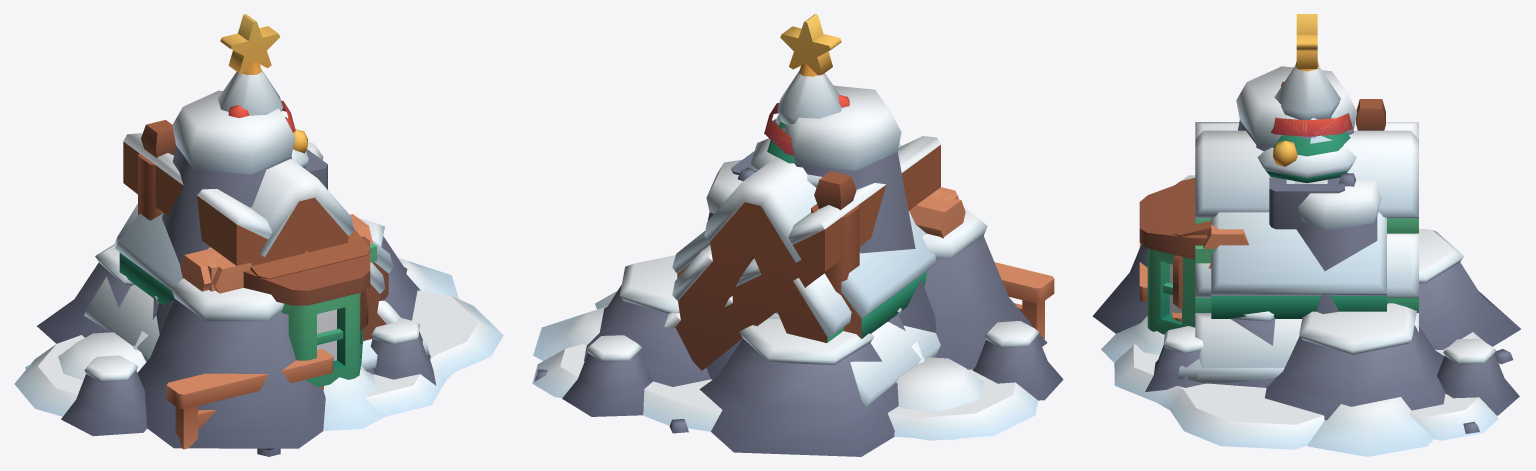
File: winter.glb
3 renders of one model, left to right at view 1: azimuth 30°, elevation 25°; view 2: azimuth 150°, elevation 25°; view 3: azimuth 270°, elevation 25°, orthographic. The views are drawn at different scales.
Parts seen in each view (by area): view 1: rocks-large, snow-flat-large, cabin-window-large, cabin-roof-snow-point, cabin-fence, cabin-roof-chimney, cabin-roof-point, cabin-roof-snow-chimney, cabin-roof-snow-dormer, tree-decorated-snow, cabin-overhang-doorway, cabin-corner-logs (+4 smaller); view 2: rocks-large, cabin-roof-snow-point, snow-flat-large, cabin-roof-point, cabin-roof-snow-chimney, cabin-roof-snow-dormer, tree-decorated-snow, cabin-roof-chimney, cabin-roof-snow-corner, tree-snow-b, cabin-fence, cabin-corner-logs (+1 smaller); view 3: rocks-large, cabin-roof-snow-point, snow-flat-large, cabin-roof-snow-dormer, tree-decorated-snow, cabin-window-large, cabin-roof-dormer, cabin-roof-snow-chimney, tree-snow-b, cabin-overhang-doorway, cabin-roof-snow-corner, cabin-roof-corner (+4 smaller).
Part boxes in pixels (box(x1,y1,x2,y2)): rocks-large: box(25, 90, 458, 448); snow-flat-large: box(14, 290, 503, 416); cabin-window-large: box(243, 218, 371, 387); cabin-roof-snow-point: box(84, 159, 400, 361); cabin-fence: box(166, 349, 333, 449); cabin-roof-chimney: box(123, 142, 327, 265); cabin-roof-point: box(265, 197, 386, 340); cabin-roof-snow-chimney: box(123, 133, 327, 265); cabin-roof-snow-dormer: box(114, 213, 393, 299); tree-decorated-snow: box(220, 14, 308, 165); cabin-overhang-doorway: box(250, 217, 370, 279); cabin-corner-logs: box(180, 248, 252, 293); rocks-large: box(533, 85, 1063, 456); cabin-roof-snow-point: box(664, 143, 940, 406); snow-flat-large: box(532, 291, 1038, 440); cabin-roof-point: box(674, 202, 843, 362); cabin-roof-snow-chimney: box(694, 136, 940, 370); cabin-roof-snow-dormer: box(672, 211, 935, 333); tree-decorated-snow: box(751, 14, 849, 184); cabin-roof-chimney: box(704, 145, 940, 368); cabin-roof-snow-corner: box(811, 176, 859, 294); tree-snow-b: box(752, 70, 841, 319); cabin-fence: box(994, 262, 1054, 338); cabin-corner-logs: box(913, 187, 965, 238); rocks-large: box(1092, 66, 1520, 456); cabin-roof-snow-point: box(1195, 130, 1418, 367); snow-flat-large: box(1114, 332, 1499, 449); cabin-roof-snow-dormer: box(1211, 212, 1386, 318); tree-decorated-snow: box(1257, 14, 1356, 179); cabin-window-large: box(1139, 185, 1248, 334); cabin-roof-dormer: box(1211, 296, 1386, 316); cabin-roof-snow-chimney: box(1195, 122, 1418, 383); tree-snow-b: box(1261, 66, 1355, 183); cabin-overhang-doorway: box(1173, 177, 1242, 268); cabin-roof-snow-corner: box(1177, 99, 1385, 381); cabin-roof-corner: box(1356, 99, 1385, 130).
Size of the model in its own units: 3.2 by 2.86 by 2.69.
Materials: 1 (1 with a texture image).
